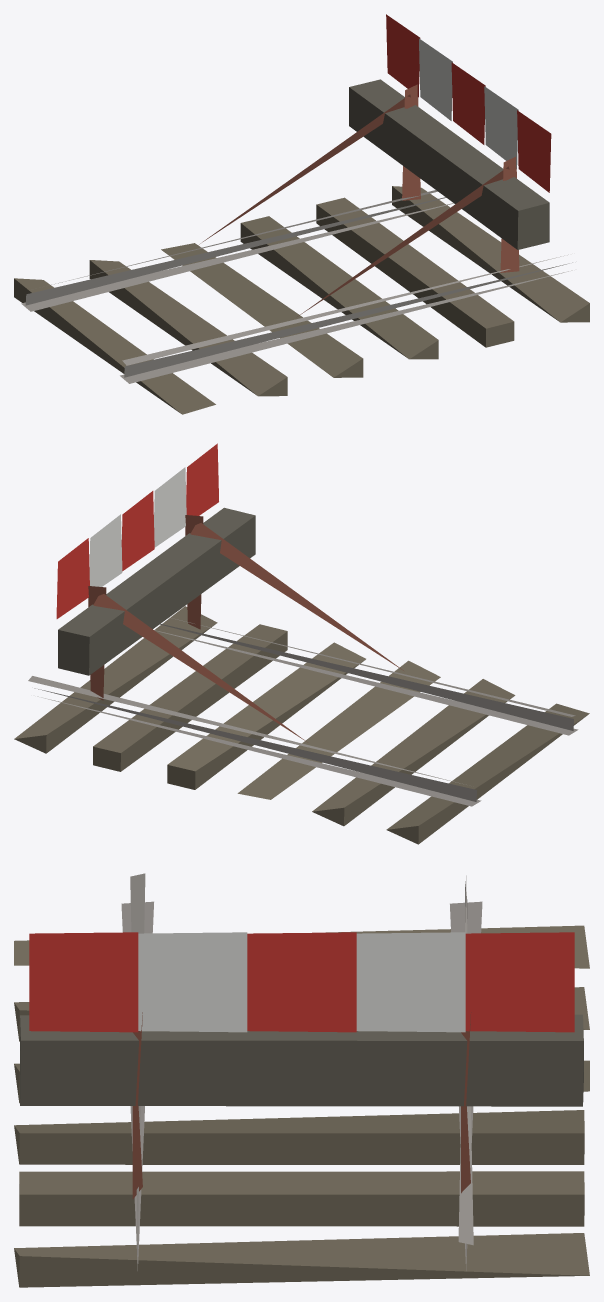
The model's file is buffer-stop-lod1.glb.
3 renders of one model, top to bottom at view 1: azimuth 30°, elevation 25°; view 2: azimuth 150°, elevation 25°; view 3: azimuth 270°, elevation 25°, orthographic. The views are drawn at different scales.
Parts seen in each view (by area): view 1: buffer-stop.001; view 2: buffer-stop.001; view 3: buffer-stop.001.
Part boxes in pixels (x1=…): buffer-stop.001: x1=14, y1=14, x2=589, y2=414; buffer-stop.001: x1=14, y1=443, x2=589, y2=844; buffer-stop.001: x1=14, y1=873, x2=589, y2=1287.
Size of the model in its own units: 4 by 1.65 by 2.64.
